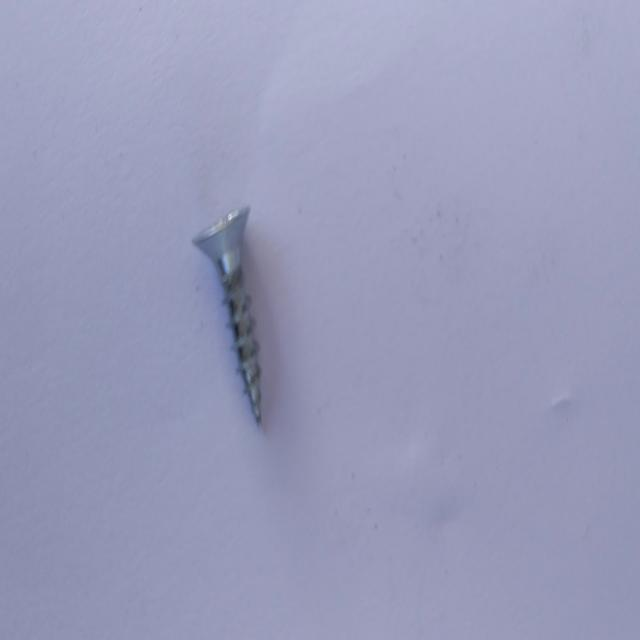Screw: (192, 206, 261, 425)
